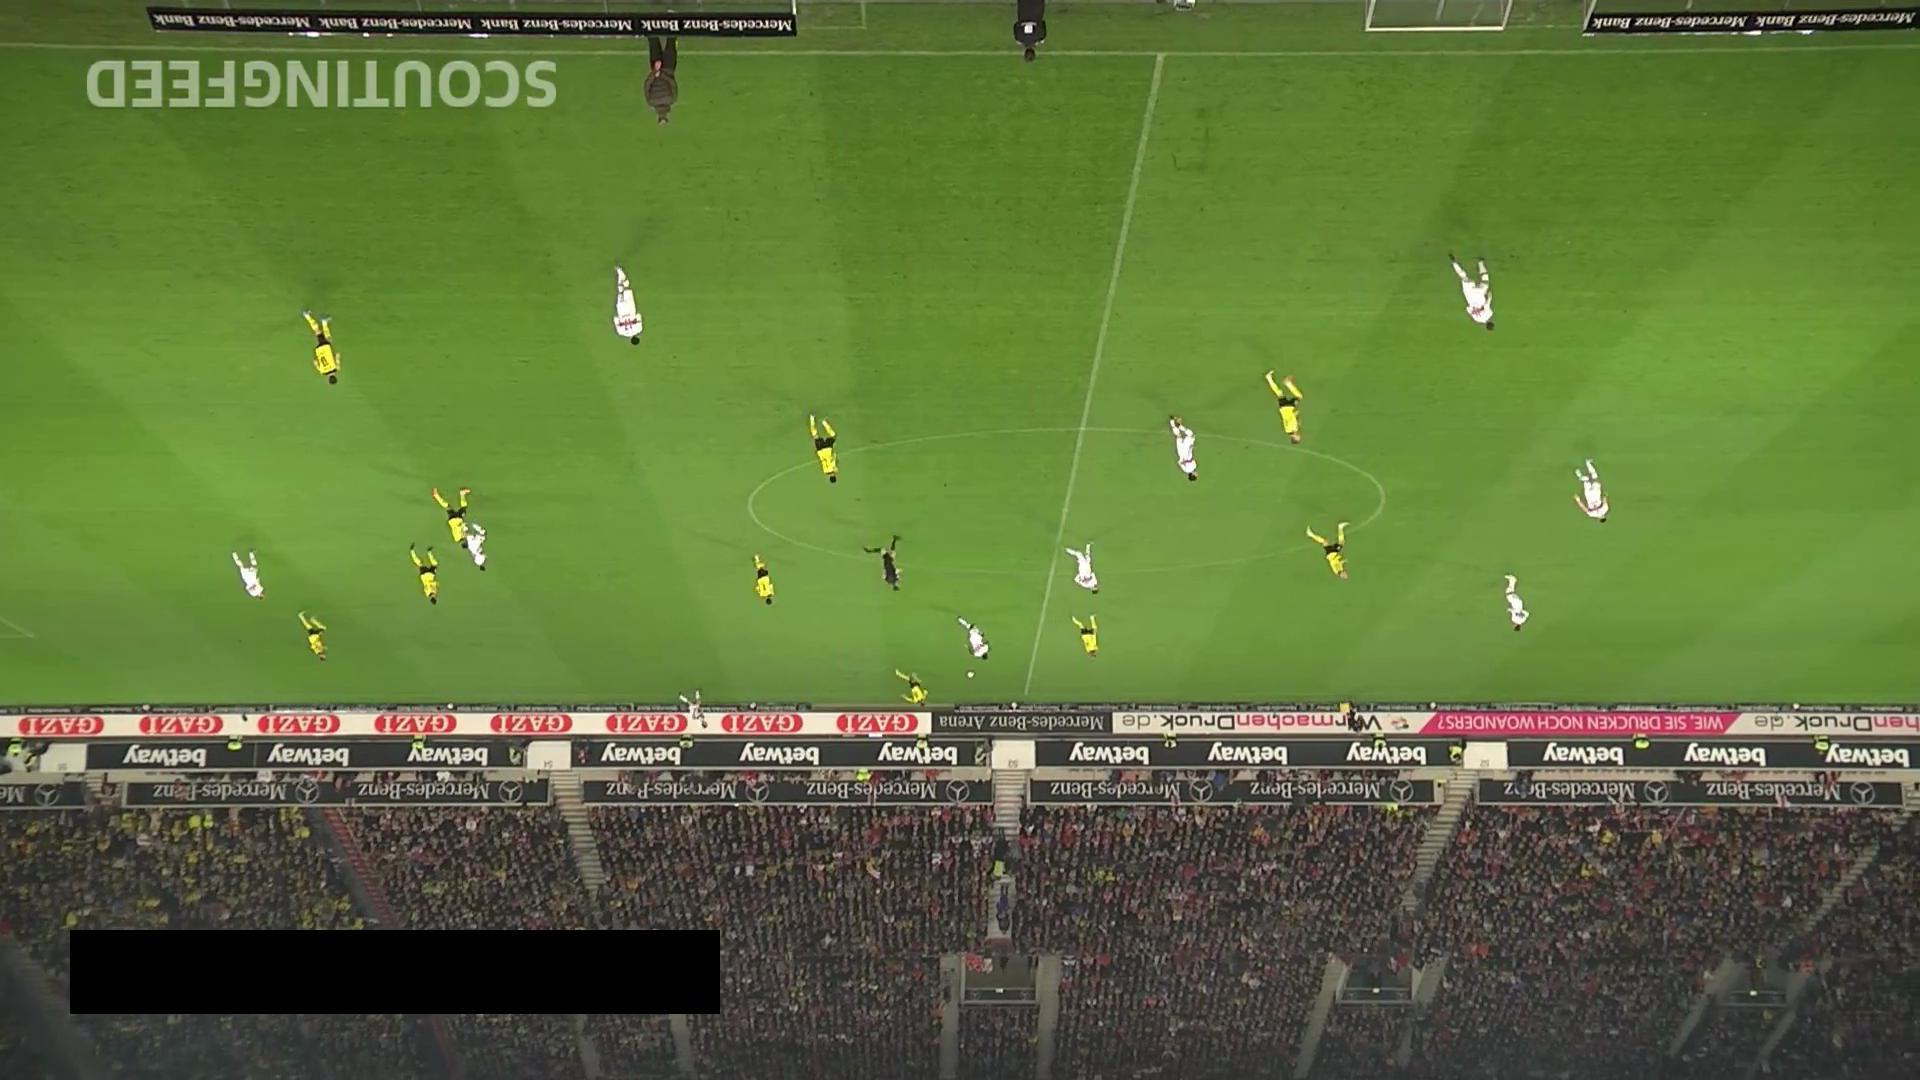ball: (966, 669, 975, 679)
player: (1447, 252, 1496, 332), (1263, 370, 1304, 445), (302, 309, 341, 386), (431, 487, 474, 550), (1306, 521, 1351, 581), (612, 263, 644, 347), (1572, 458, 1610, 525), (808, 413, 840, 485), (1168, 415, 1199, 483), (408, 543, 439, 606), (1064, 542, 1100, 595), (231, 551, 266, 600), (297, 611, 328, 663), (956, 616, 991, 661), (1503, 575, 1530, 633), (1070, 613, 1099, 661), (895, 669, 929, 707), (752, 553, 775, 606), (679, 689, 708, 730), (466, 522, 487, 573)
referee: (863, 535, 903, 593), (1336, 695, 1364, 738)
